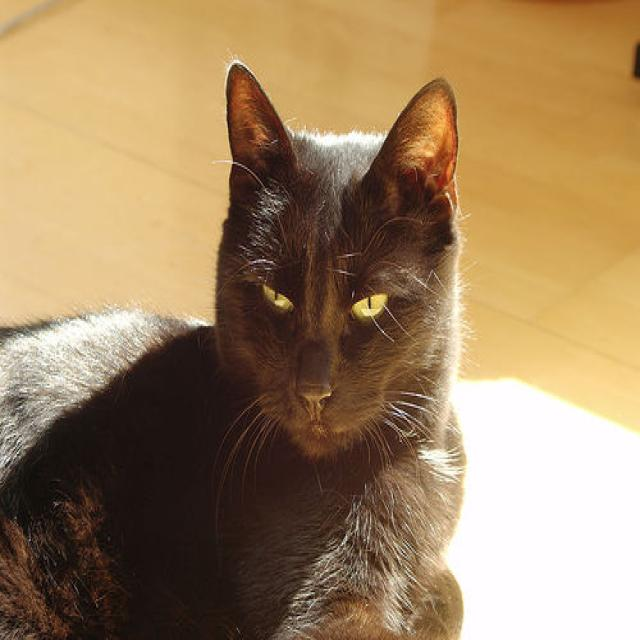left eye: (348, 286, 391, 322)
